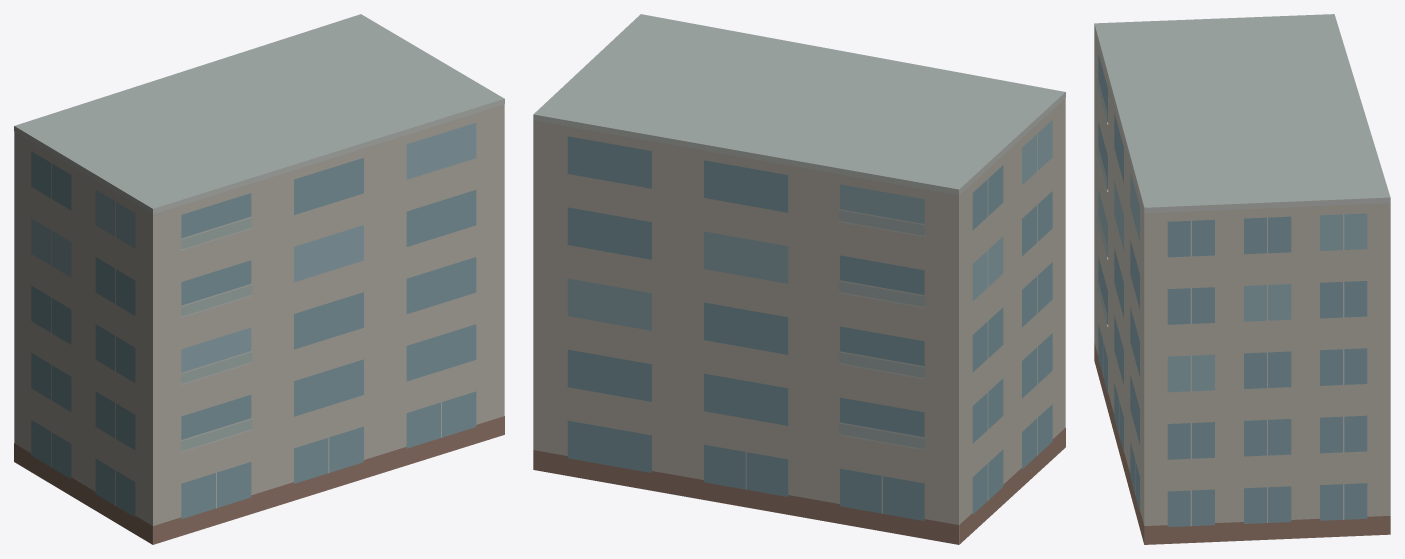
Rendered from survey-upis-32736698.glb.
3 views of the same model, side by side, from view 1: azimuth 30°, elevation 25°; view 2: azimuth 150°, elevation 25°; view 3: azimuth 270°, elevation 25° (orthographic). The views are drawn at different scales.
Visible parts, largest first — view 1: survey-upis-32736698.tmp; view 2: survey-upis-32736698.tmp; view 3: survey-upis-32736698.tmp.
Boxes of the visible parts, <box> form: survey-upis-32736698.tmp: <box>14,14,504,544</box>; survey-upis-32736698.tmp: <box>533,14,1065,544</box>; survey-upis-32736698.tmp: <box>1094,14,1390,544</box>.
Bounding box in the file's own units: 18.31 × 14.85 × 11.84.
